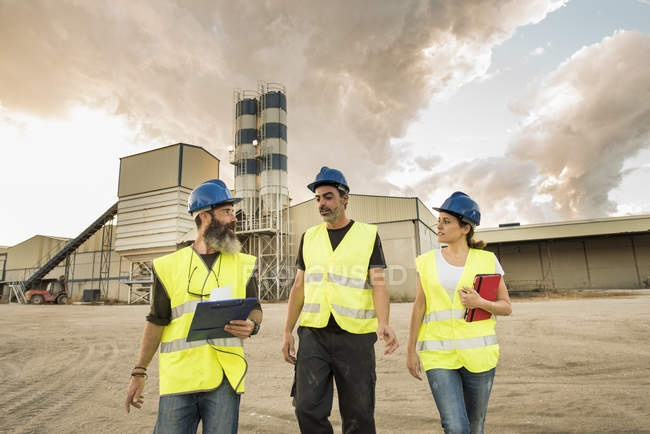helmet: (186, 179, 242, 213), (433, 191, 483, 226), (305, 167, 351, 193)
person with full safety: (121, 178, 265, 434), (281, 165, 390, 434), (405, 190, 513, 434)
safety vest: (152, 248, 255, 395), (415, 247, 502, 374), (300, 220, 379, 336)
